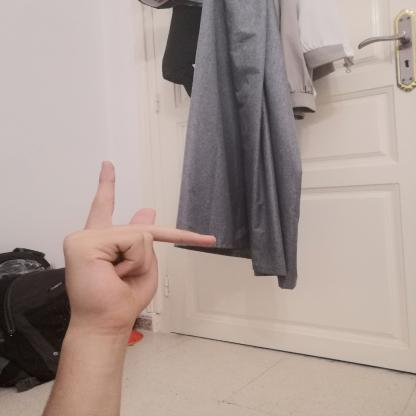DHAA: (47, 152, 230, 342)
